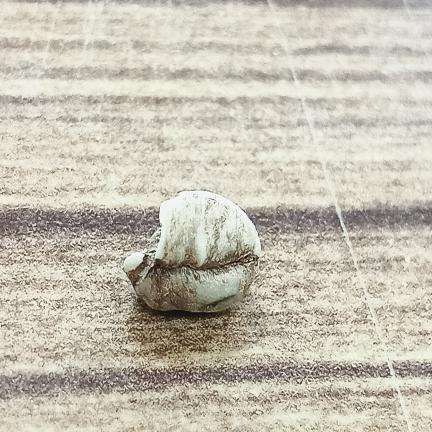broken: (123, 190, 261, 312)
